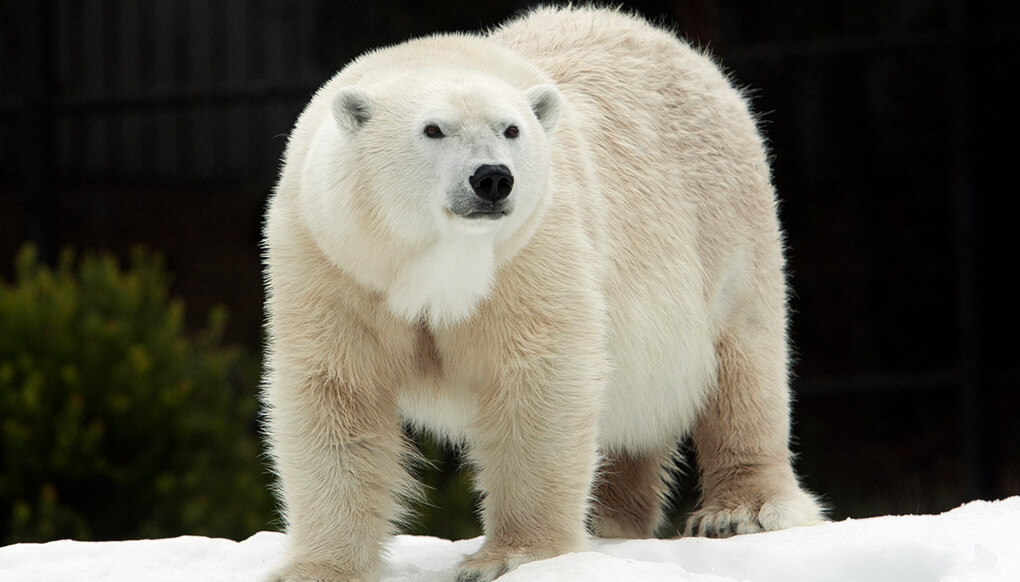Polar Bear: (253, 23, 839, 555)
